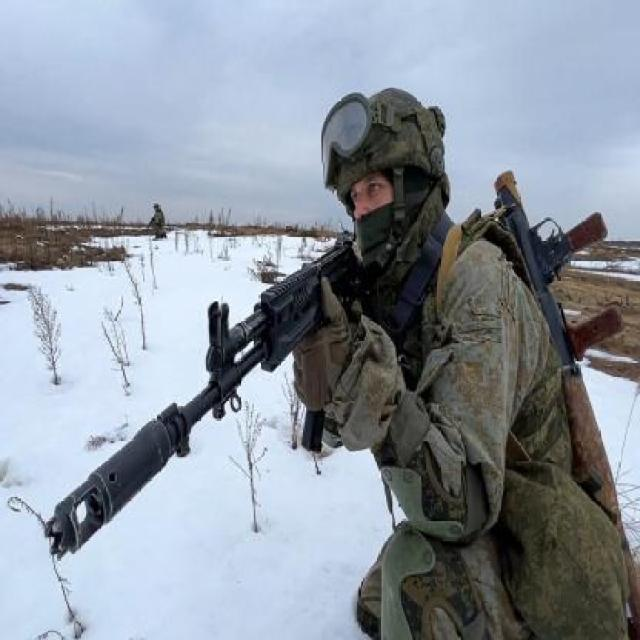weapon: (473, 160, 639, 607)
